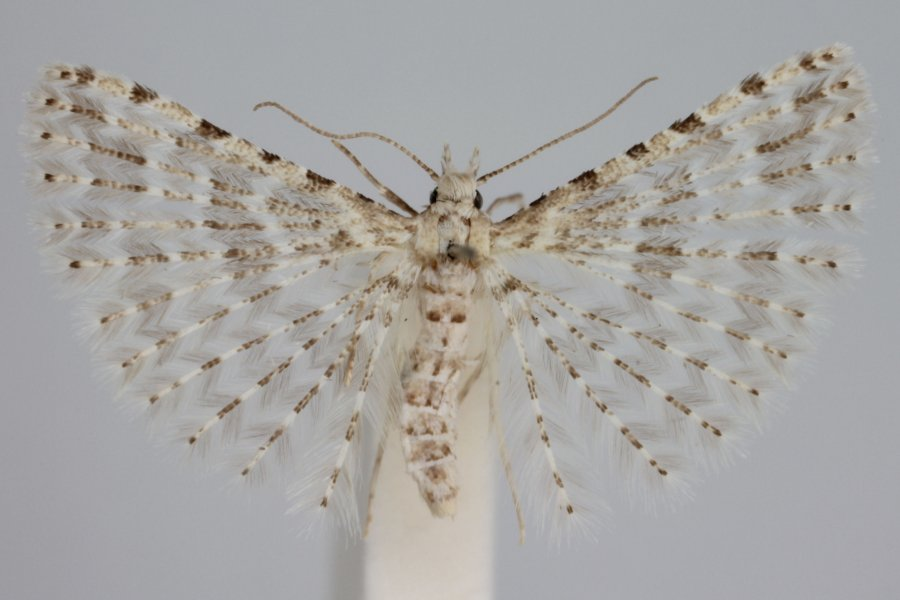Alucitidae: (10, 42, 873, 542)
moth: (8, 40, 871, 540)
